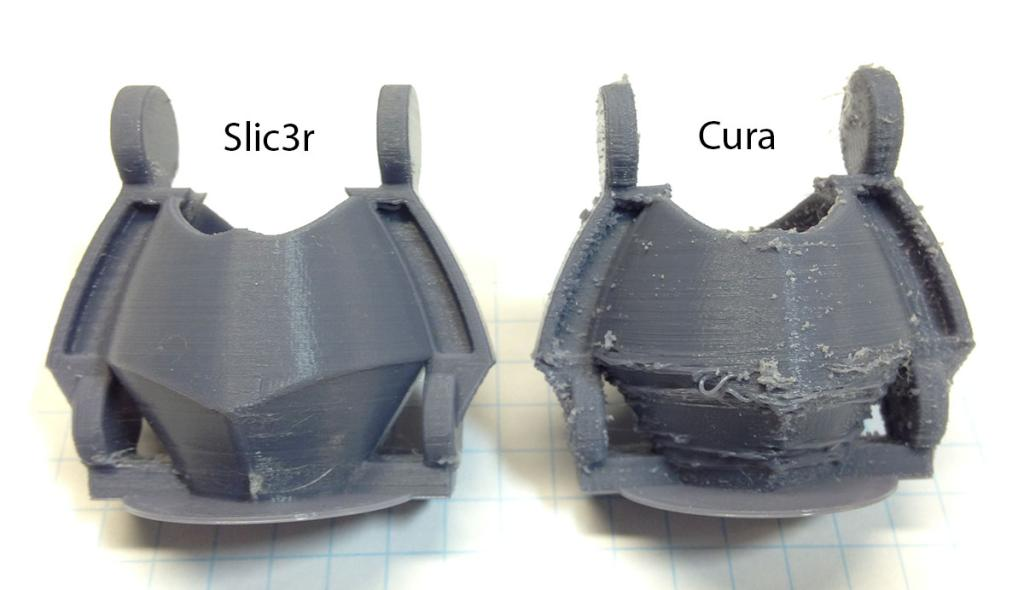3dpoverextrusion: (541, 371, 587, 430), (829, 345, 897, 382), (563, 190, 610, 240), (904, 213, 947, 259), (755, 238, 819, 266), (592, 325, 630, 360)
3dpstringing: (763, 377, 837, 429), (93, 437, 165, 488), (694, 362, 758, 410), (829, 83, 872, 135)
